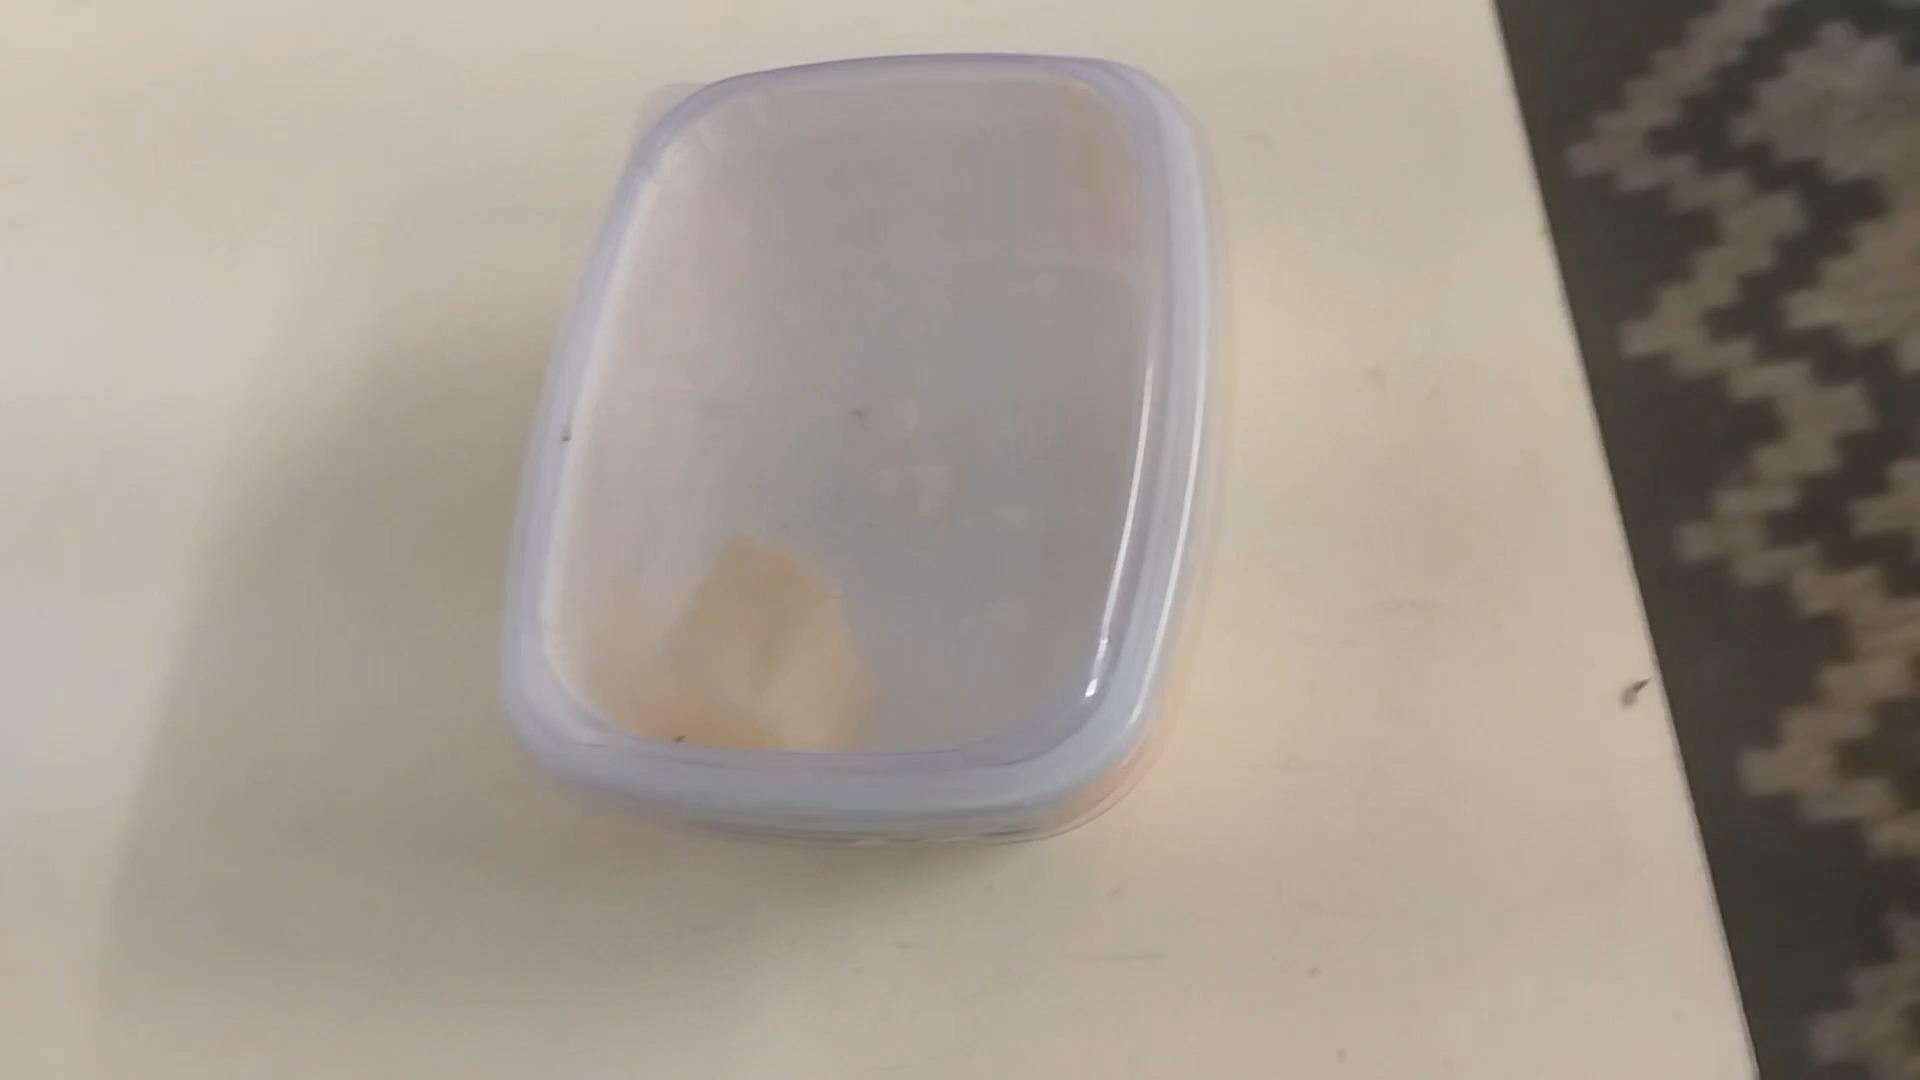butter: (501, 53, 1201, 845)
